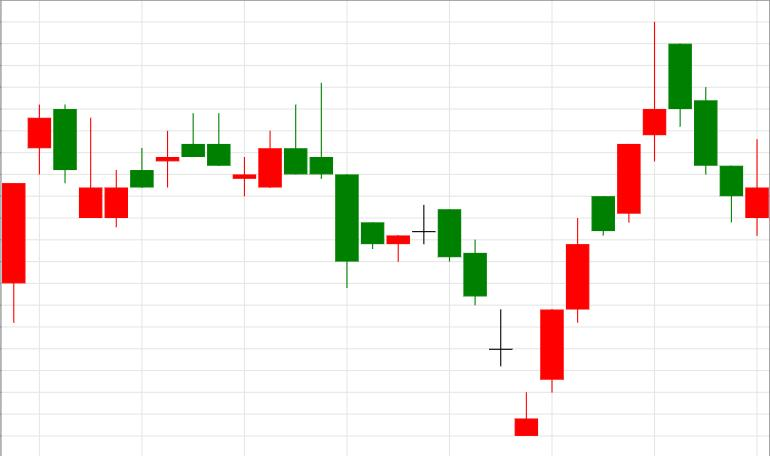shooting_star_fall: (514, 22, 666, 436)
three_white_soldiers_rise: (412, 204, 589, 436)
